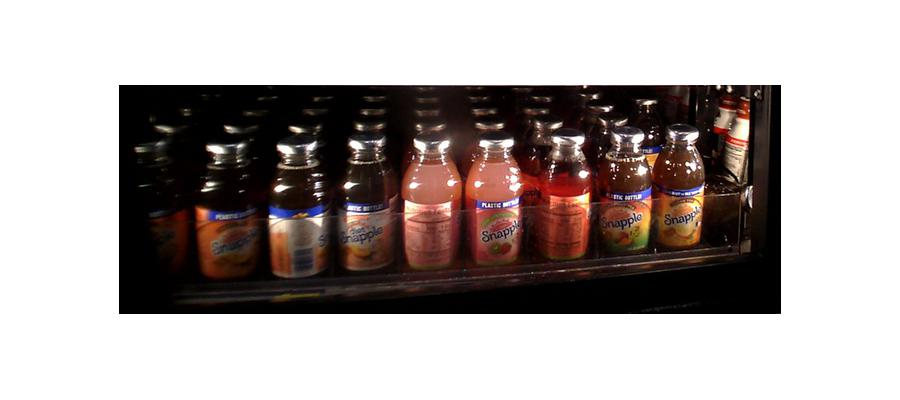bottle: (194, 137, 265, 281), (266, 138, 331, 281), (337, 126, 398, 274), (533, 125, 594, 264), (464, 133, 526, 266), (404, 132, 458, 270), (598, 126, 652, 253), (656, 120, 706, 251)
